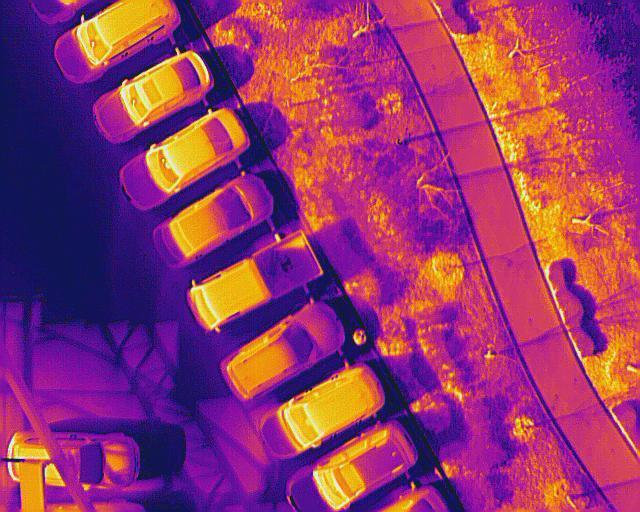No-Anomaly: (19, 465, 46, 512)
